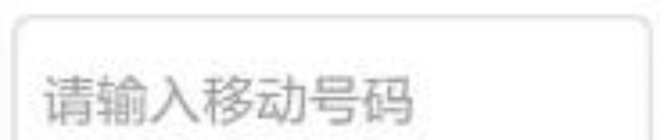EditText: (1, 1, 659, 139)
